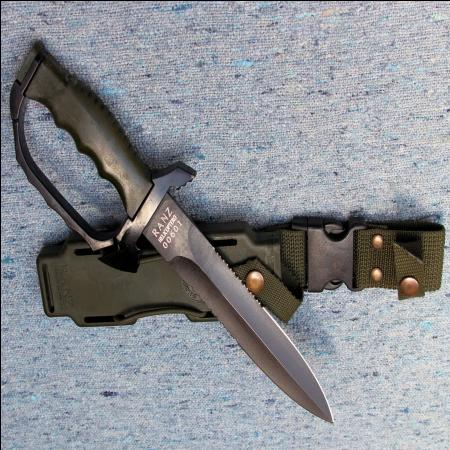long weapon: (116, 157, 338, 435)
